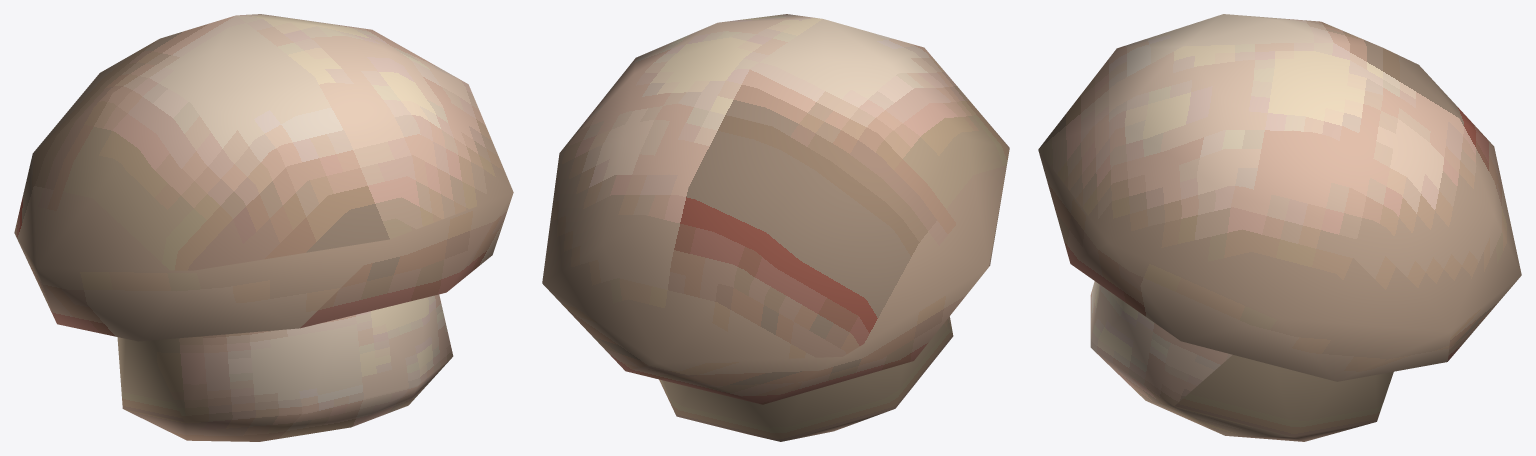
File: fg_mush1.dae
The picture shows the model from 3 angles, left to right: view 1: azimuth 30°, elevation 25°; view 2: azimuth 150°, elevation 25°; view 3: azimuth 270°, elevation 25°; orthographic projection. The views are drawn at different scales.
Parts seen in each view (by area): view 1: fg_mush1; view 2: fg_mush1; view 3: fg_mush1.
Boxes of the visible parts, bbox=[...] form: fg_mush1: bbox=[14, 14, 513, 441]; fg_mush1: bbox=[542, 14, 1009, 441]; fg_mush1: bbox=[1038, 14, 1521, 441].
Size of the model in its own units: 10.03 by 8.2 by 9.64.
1 material, 1 textured.
